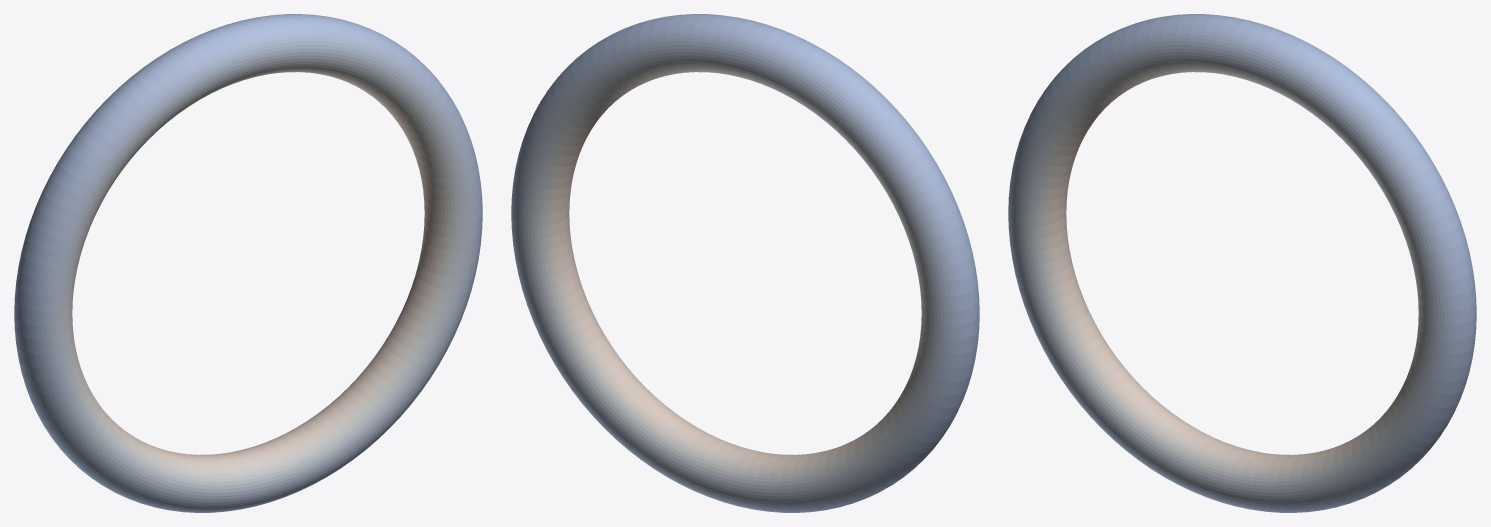
3 views of the same model, side by side, from view 1: azimuth 30°, elevation 25°; view 2: azimuth 150°, elevation 25°; view 3: azimuth 330°, elevation 25° (orthographic).
Visible parts, largest first — view 1: world; view 2: world; view 3: world.
Part boxes in pixels (x1,y1,x2,y2): world: (14,14,482,512); world: (511,14,979,512); world: (1008,14,1476,512).
Size of the model in its own units: 32.93 by 32.93 by 3.59.
